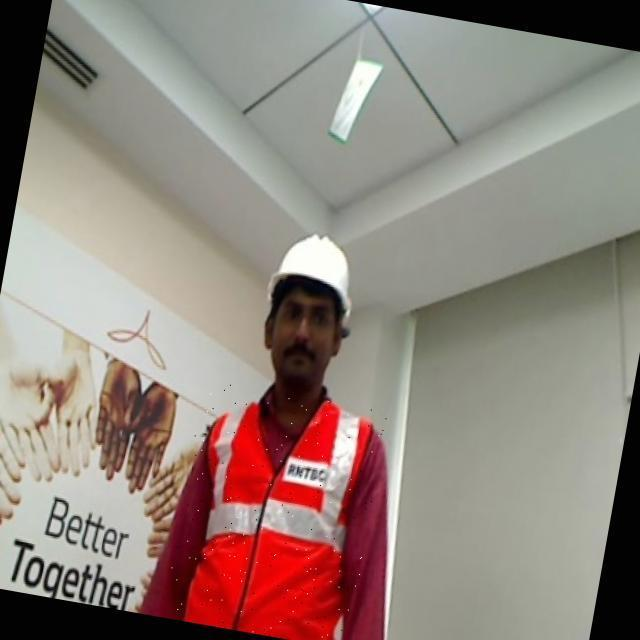helmet: (257, 225, 370, 328)
vest: (162, 377, 388, 640)
